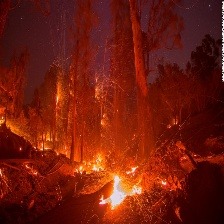fire: (99, 178, 143, 211), (76, 152, 113, 179), (126, 165, 141, 177), (36, 143, 48, 152), (160, 177, 167, 188), (56, 92, 61, 104)
